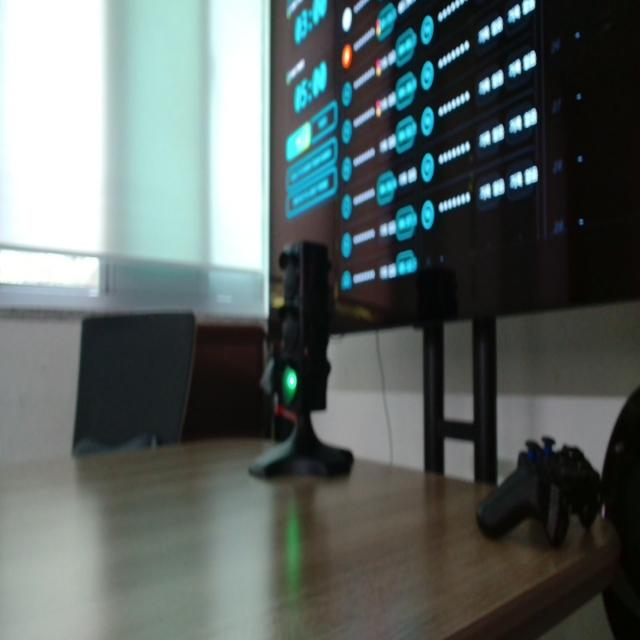green_light: (283, 367, 297, 404)
